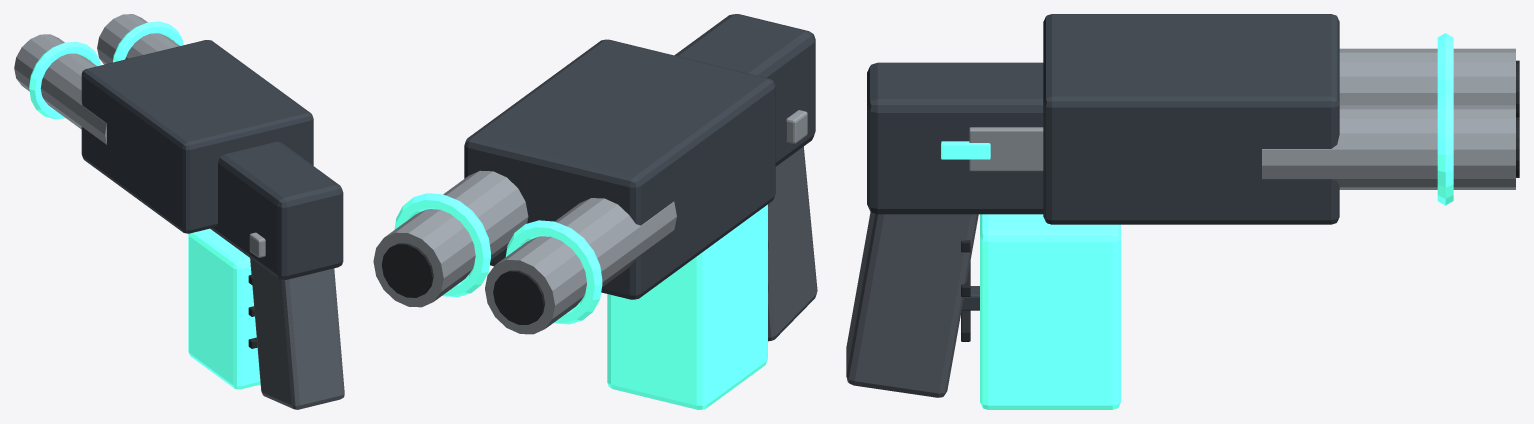
The model's file is doble.glb.
3 views of the same model, side by side, from view 1: azimuth 30°, elevation 25°; view 2: azimuth 150°, elevation 25°; view 3: azimuth 270°, elevation 25° (orthographic). The views are drawn at different scales.
Visible parts, largest first — view 1: Arma_doble; view 2: Arma_doble; view 3: Arma_doble.
Part boxes in pixels (bbox=[...]): Arma_doble: bbox=[14, 14, 344, 409]; Arma_doble: bbox=[373, 14, 817, 409]; Arma_doble: bbox=[846, 14, 1519, 409].
Bounding box in the file's own units: 0.356 × 0.52 × 0.9544.
